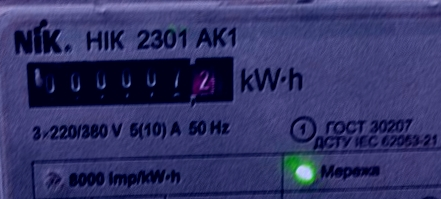0: (42, 70, 57, 94), (119, 66, 134, 89), (144, 64, 158, 88), (68, 69, 82, 92), (94, 67, 108, 90)
2: (197, 68, 211, 91)
7: (170, 64, 183, 88)
screen: (16, 46, 244, 115)
